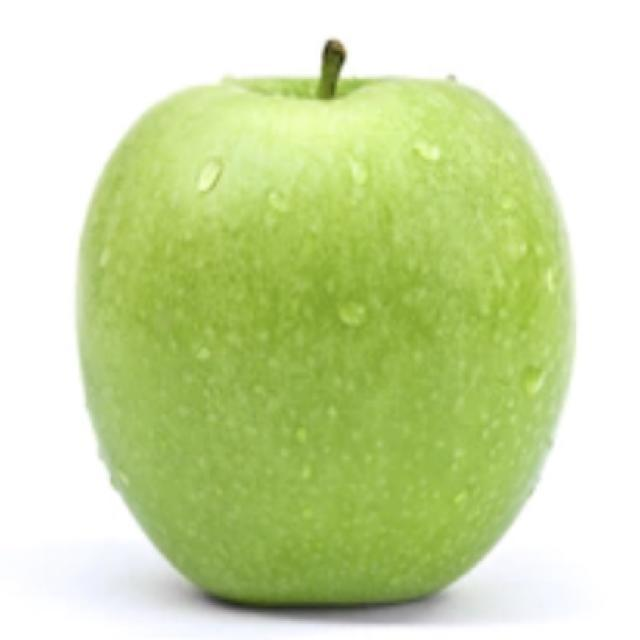Fresh Apple: (106, 73, 552, 615)
